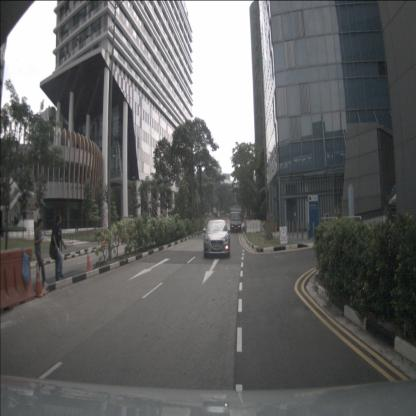human-pedestrian-adult: (49, 213, 66, 282), (34, 217, 47, 288)
movable_object-barrier: (0, 248, 35, 313), (246, 219, 261, 234)
movable_object-trafficcone: (33, 260, 45, 298), (85, 248, 93, 272), (274, 222, 278, 232)
vehicle-car: (204, 220, 230, 258)
vehicle-truck: (230, 206, 242, 232)
